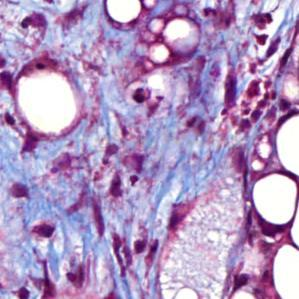steatosis: (14, 67, 82, 139)
